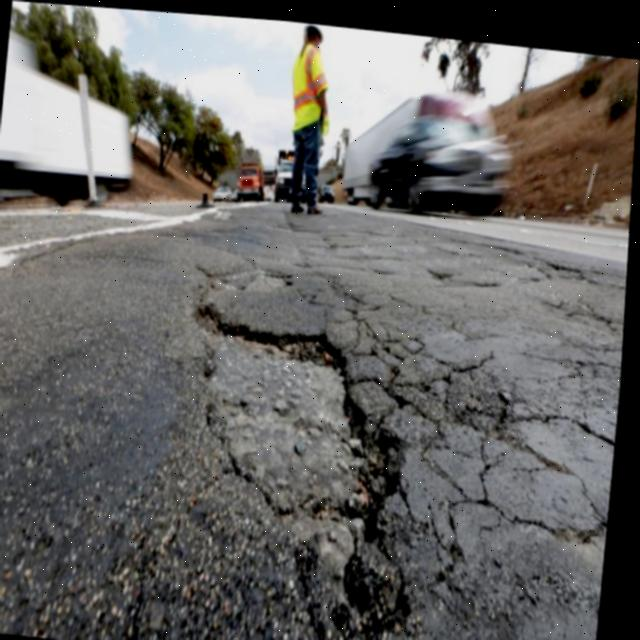Pothole: (161, 271, 485, 640)
